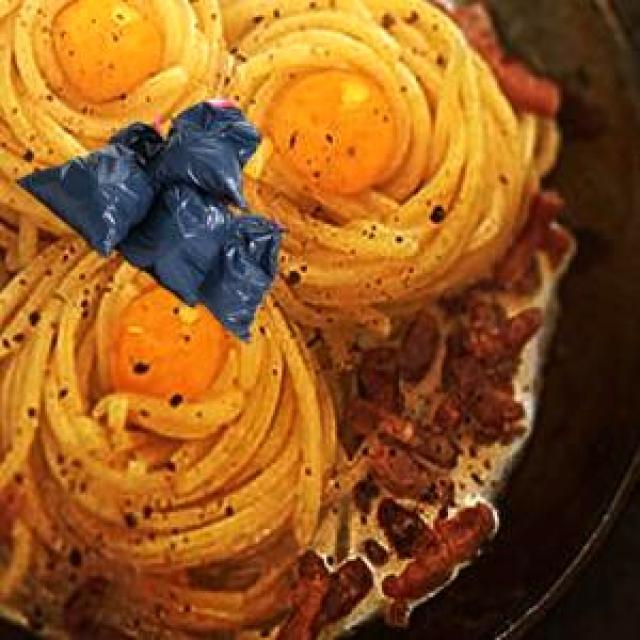Garbage_Bag: (14, 94, 283, 340)
